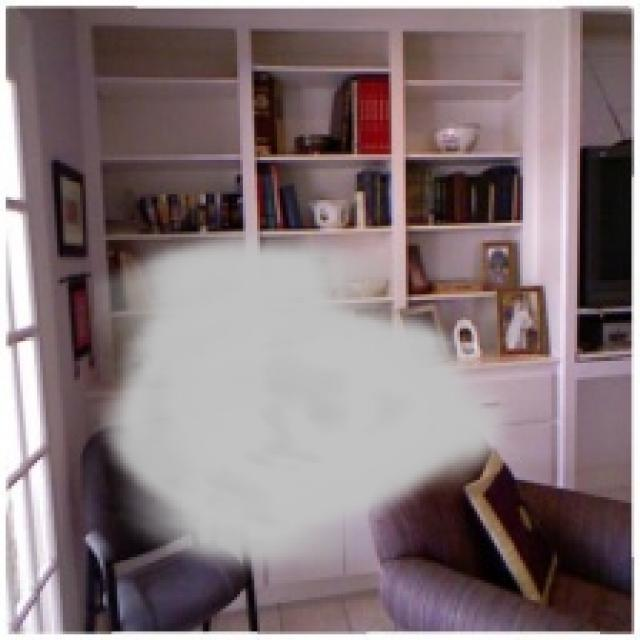Smoke: (94, 228, 517, 583)
